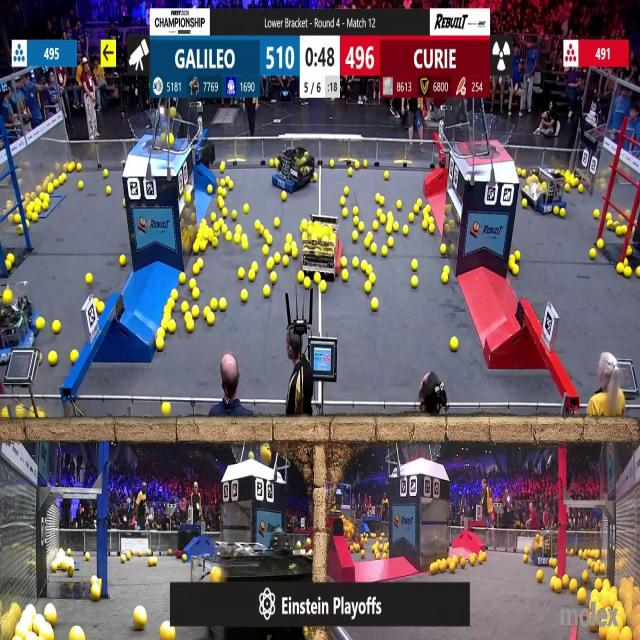ball_airborne: (262, 448, 272, 466), (170, 108, 177, 118), (162, 134, 167, 146), (169, 135, 174, 145)
ball_ground: (134, 609, 147, 631), (44, 607, 56, 626), (162, 624, 175, 640), (70, 628, 84, 640), (576, 589, 585, 605), (2, 289, 12, 303), (211, 568, 221, 582), (92, 587, 101, 602), (163, 404, 172, 418), (553, 580, 562, 593), (451, 338, 459, 352), (48, 352, 56, 366), (570, 580, 578, 594), (15, 408, 24, 420), (218, 299, 226, 312), (70, 350, 78, 363), (54, 321, 62, 334), (36, 317, 44, 330), (207, 314, 215, 326), (210, 297, 218, 309), (446, 562, 454, 574), (370, 299, 377, 312), (536, 569, 543, 582), (155, 340, 163, 351), (412, 276, 419, 288), (241, 289, 248, 301), (186, 320, 193, 332), (191, 307, 198, 319), (513, 265, 520, 277), (599, 628, 606, 640), (562, 575, 569, 587), (430, 562, 437, 574), (43, 631, 52, 640), (17, 631, 26, 640), (168, 322, 176, 332), (254, 220, 262, 230), (87, 274, 94, 285), (271, 273, 278, 284), (443, 274, 450, 285), (341, 256, 348, 267), (284, 244, 291, 255), (98, 303, 105, 314), (364, 283, 371, 294), (299, 219, 306, 230), (265, 285, 271, 297), (119, 254, 125, 266), (180, 273, 186, 285), (192, 288, 198, 300), (320, 281, 326, 293), (370, 242, 376, 254), (296, 272, 302, 284), (596, 577, 602, 589), (420, 220, 428, 229), (34, 624, 40, 636), (268, 261, 275, 271), (625, 268, 632, 278), (248, 272, 255, 282), (181, 303, 188, 313), (235, 235, 242, 245), (188, 279, 195, 289), (597, 240, 604, 250), (515, 250, 522, 260), (480, 552, 487, 562), (507, 263, 514, 273), (413, 261, 419, 272), (442, 244, 448, 255), (590, 248, 596, 259), (238, 269, 244, 280), (291, 247, 297, 258), (342, 271, 348, 282), (352, 257, 358, 268), (380, 216, 388, 224), (159, 328, 166, 337), (314, 275, 321, 284), (6, 254, 13, 263), (402, 224, 408, 234), (274, 217, 280, 227), (388, 238, 394, 248), (341, 197, 347, 207), (242, 241, 248, 251), (172, 289, 178, 299), (283, 255, 289, 265), (560, 208, 566, 218), (264, 246, 270, 256), (305, 279, 311, 289), (352, 232, 358, 242), (618, 265, 624, 275), (192, 266, 198, 276), (371, 220, 377, 230), (358, 222, 364, 232), (286, 234, 292, 244), (276, 252, 282, 262), (218, 198, 224, 208), (2, 410, 8, 420), (267, 236, 273, 246), (201, 242, 207, 252), (618, 226, 624, 236), (192, 244, 198, 254), (554, 566, 560, 576), (5, 262, 11, 272), (47, 183, 53, 193), (236, 224, 243, 232), (213, 223, 220, 231), (423, 206, 430, 214), (369, 274, 374, 285), (361, 262, 366, 273), (584, 570, 589, 581), (226, 233, 232, 242), (244, 205, 250, 214), (212, 239, 218, 248), (396, 201, 402, 210), (386, 224, 392, 233), (382, 247, 388, 256), (343, 209, 349, 218), (344, 186, 350, 195), (380, 198, 386, 207), (353, 216, 359, 225), (32, 213, 38, 222), (428, 223, 434, 232), (76, 164, 82, 173), (185, 192, 191, 201), (198, 260, 204, 269), (60, 175, 66, 184), (414, 206, 420, 215), (68, 567, 74, 576), (184, 312, 190, 321), (410, 213, 415, 223), (393, 222, 398, 232), (211, 212, 216, 222), (376, 192, 381, 202), (388, 213, 393, 223), (165, 306, 172, 313), (594, 210, 600, 218), (106, 186, 112, 194), (251, 264, 257, 272), (522, 201, 528, 209), (348, 168, 354, 176), (162, 320, 168, 328), (78, 181, 84, 189), (92, 576, 98, 584), (221, 209, 227, 217), (554, 208, 560, 216), (169, 298, 175, 306), (221, 224, 227, 232), (564, 183, 570, 191), (148, 559, 154, 567), (552, 559, 558, 567), (42, 202, 48, 210), (269, 160, 275, 168), (127, 554, 133, 562), (55, 184, 61, 192), (68, 165, 74, 173), (353, 207, 358, 216), (233, 211, 238, 220), (17, 224, 22, 233), (366, 233, 371, 242), (522, 169, 527, 178), (366, 266, 371, 275), (636, 268, 640, 279), (627, 248, 633, 255), (524, 545, 530, 552), (217, 187, 223, 194), (84, 554, 90, 561), (282, 190, 286, 200), (103, 170, 108, 178), (364, 240, 369, 248), (445, 267, 450, 275), (524, 555, 529, 563), (182, 555, 187, 563), (377, 209, 382, 217), (120, 556, 125, 564), (384, 172, 389, 180), (14, 215, 19, 223), (220, 164, 224, 174), (355, 163, 360, 171), (242, 235, 247, 243), (307, 538, 312, 546), (208, 184, 212, 193), (624, 259, 629, 266), (383, 554, 388, 561), (423, 214, 428, 221), (606, 213, 611, 220), (202, 218, 207, 225), (139, 551, 144, 558), (417, 200, 422, 207), (578, 184, 582, 192), (329, 161, 333, 169), (363, 162, 367, 170), (314, 174, 318, 182), (360, 552, 364, 560), (99, 576, 103, 584), (68, 550, 72, 558), (290, 242, 295, 248), (228, 186, 232, 193), (169, 550, 173, 557), (220, 179, 224, 186), (148, 552, 152, 559), (570, 550, 574, 557), (121, 200, 124, 208), (377, 554, 381, 560), (296, 541, 300, 547)
goal: (459, 118, 516, 158), (128, 115, 187, 152)
robot_blue: (0, 294, 38, 370), (522, 164, 566, 214), (272, 147, 316, 193), (530, 532, 558, 566)
robot_red: (299, 215, 338, 279)
